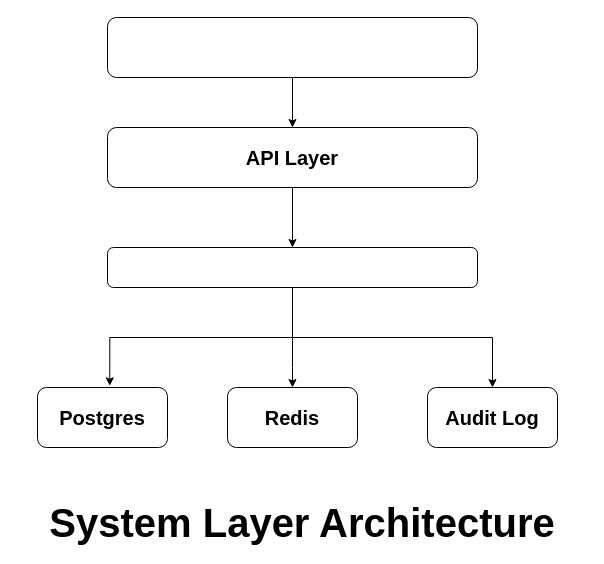
This 604x564 diagram has some shape labels left out. The shapes that lost their labels are listed below. From the top down, each one's centre as x and y in pixels, then its label:
At [292,47]: "Client Layer".
At [292,267]: "Worker Layer".
